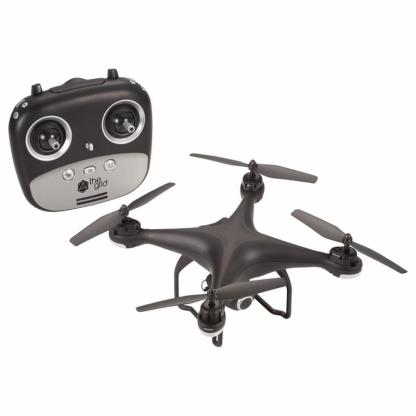drone: (66, 142, 413, 358)
